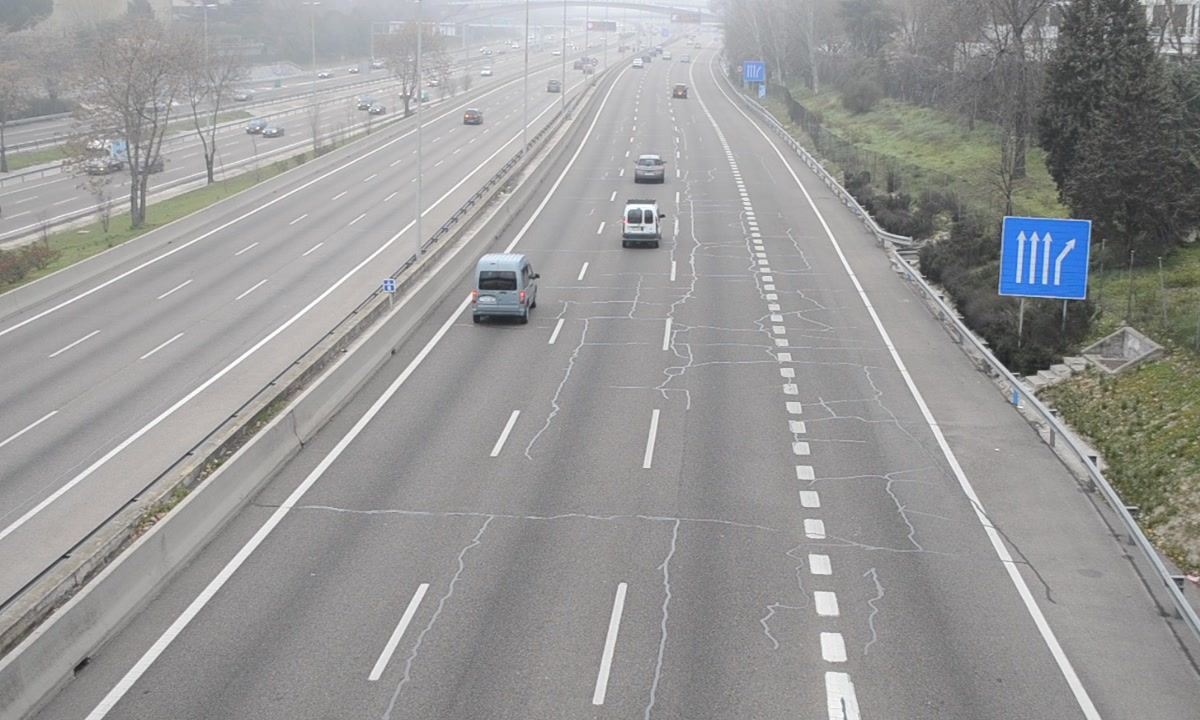car: (633, 155, 666, 184)
van: (472, 256, 537, 321), (621, 199, 662, 248)
